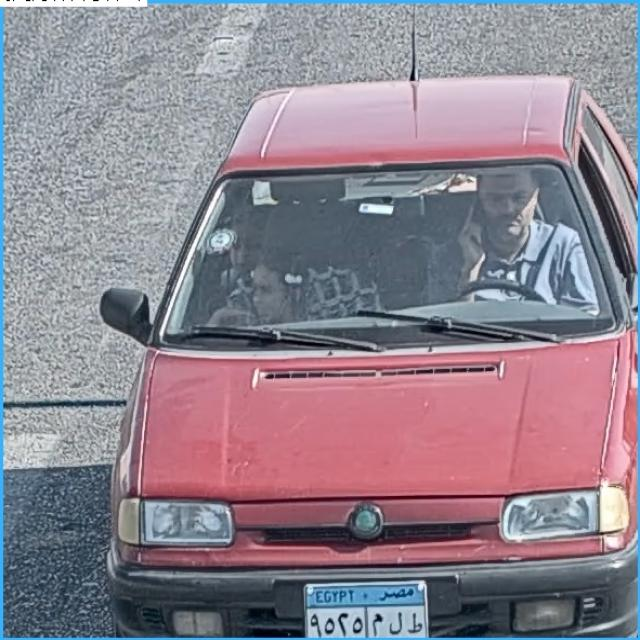windshield: (159, 172, 616, 349)
